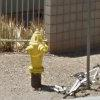Hydrant: (21, 20, 55, 92)
